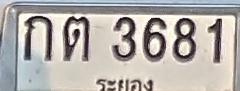1: (207, 18, 222, 62)
3: (111, 16, 136, 61)
6: (142, 16, 167, 62)
8: (172, 16, 196, 62)
A01: (23, 14, 52, 60)
A21: (62, 15, 90, 61)
RYG: (93, 74, 157, 91)
